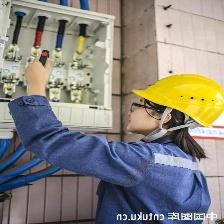Person: (102, 74, 219, 224)
helmet: (127, 74, 222, 130)
